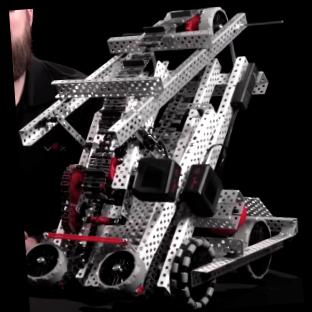Robot: (8, 0, 304, 312)
